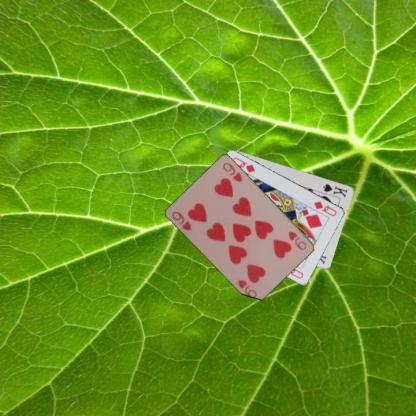9h: (170, 209, 192, 232), (286, 229, 308, 251)
Ks: (321, 181, 349, 199)
Qd: (311, 199, 338, 217)
